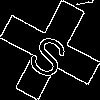S: (25, 25, 76, 81)
